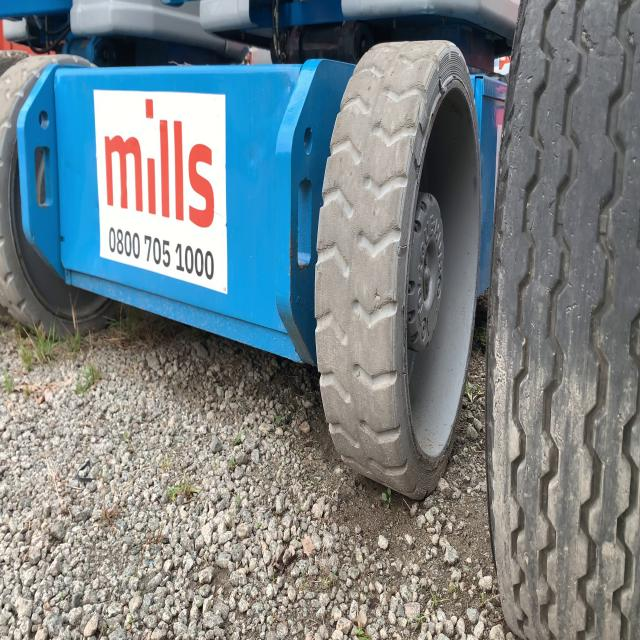Adesivos: (90, 84, 229, 300)
